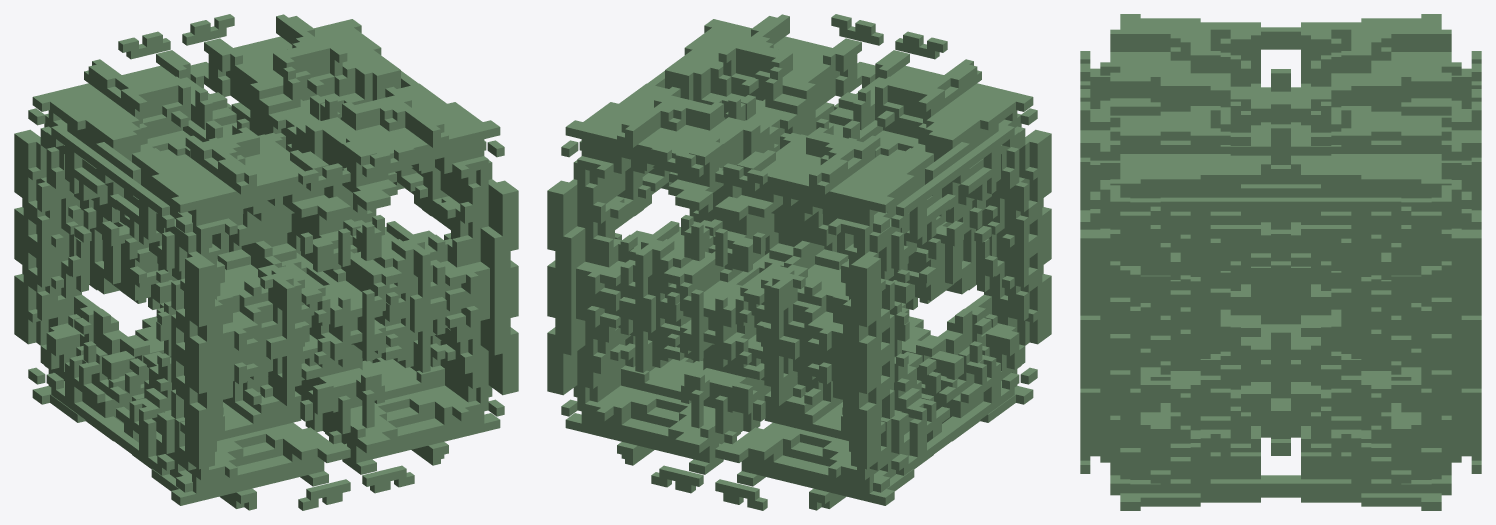
File: 浅绿玻璃.obj
The picture shows the model from 3 angles, left to right: view 1: azimuth 30°, elevation 25°; view 2: azimuth 150°, elevation 25°; view 3: azimuth 270°, elevation 25°; orthographic projection. The views are drawn at different scales.
Parts seen in each view (by area): view 1: 浅绿玻璃; view 2: 浅绿玻璃; view 3: 浅绿玻璃.
Part boxes in pixels (x1,y1,x2,y2): 浅绿玻璃: [14, 14, 518, 510]; 浅绿玻璃: [547, 14, 1051, 510]; 浅绿玻璃: [1080, 14, 1481, 510].
Bounding box in the file's own units: 40 × 40 × 40.
1 material, 1 textured.
